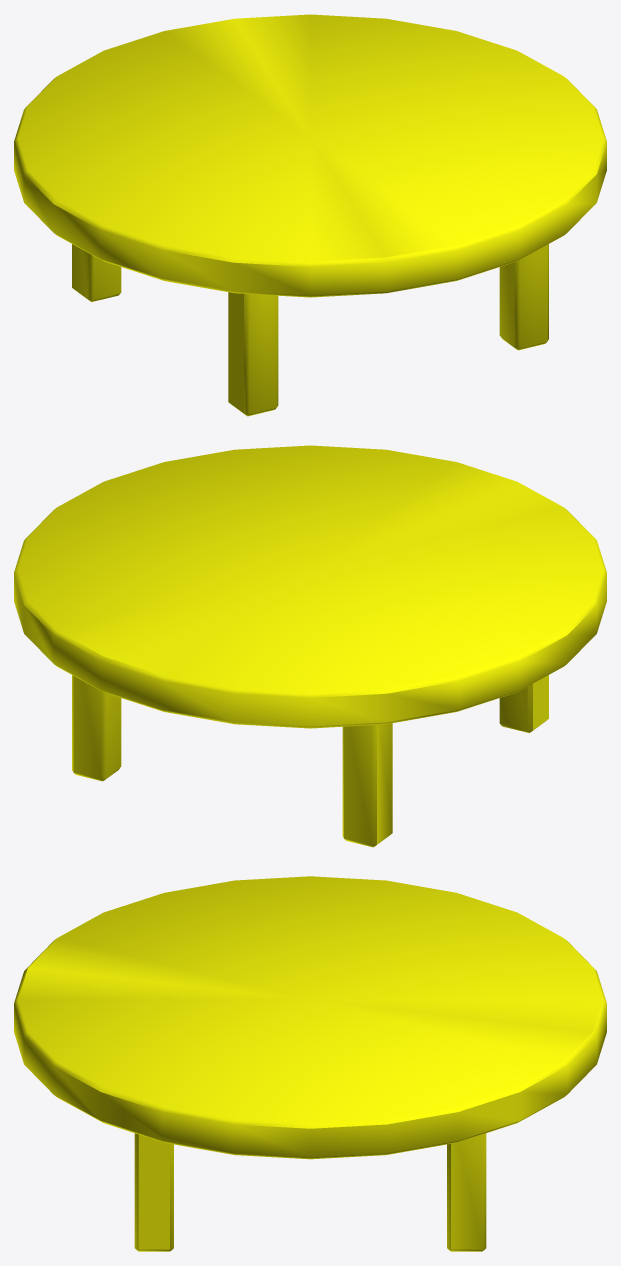
Rendered from table_round_B.gltf.
The picture shows the model from 3 angles, top to bottom: view 1: azimuth 30°, elevation 25°; view 2: azimuth 150°, elevation 25°; view 3: azimuth 270°, elevation 25°; orthographic projection.
Parts seen in each view (by area): view 1: table_round_B; view 2: table_round_B; view 3: table_round_B.
Boxes of the visible parts, x1,y1,x2,y2 form: table_round_B: (14,14,606,416); table_round_B: (14,445,606,847); table_round_B: (14,876,606,1251).
Size of the model in its own units: 3 by 1 by 3.
1 material, 1 textured.
